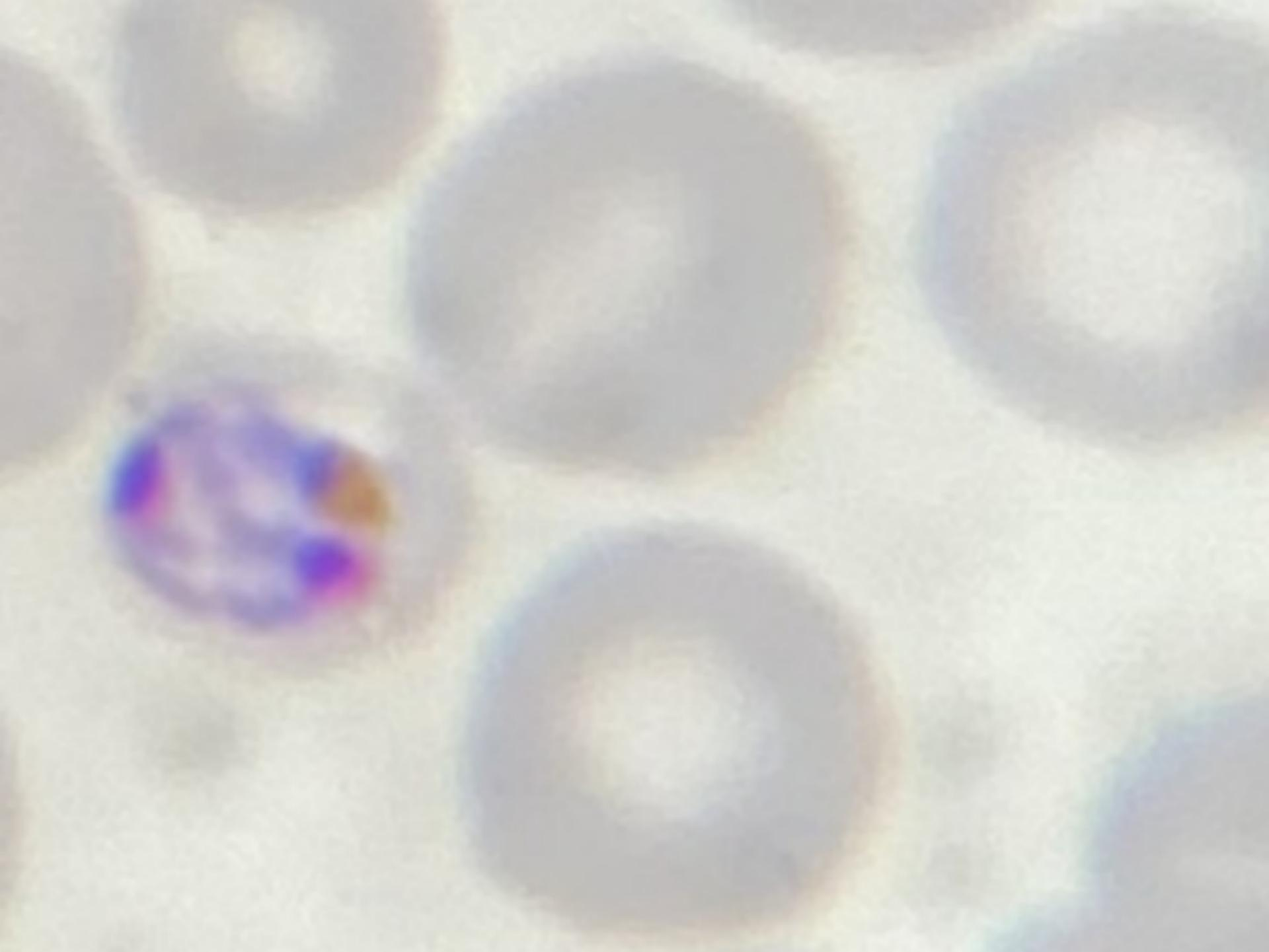Infected: (70, 320, 488, 673)
Uninfected: (414, 54, 855, 476), (458, 531, 896, 952), (919, 16, 1269, 436), (99, 0, 442, 237)
